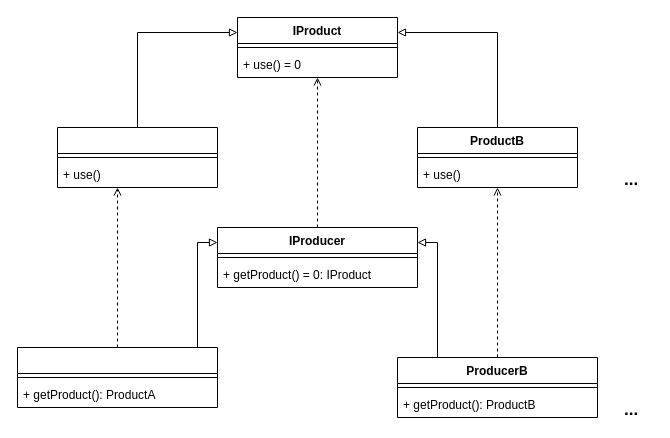
The diagram is 670 pixels wide and 438 high, and some of its shapes have lost their labels. The shapes that lost their labels are listed below. From the top down, each one's box as (x1, y1, x2, y2) in pixels, then its label:
(56, 126, 218, 188): ProductA
(16, 346, 218, 408): ProducerA
